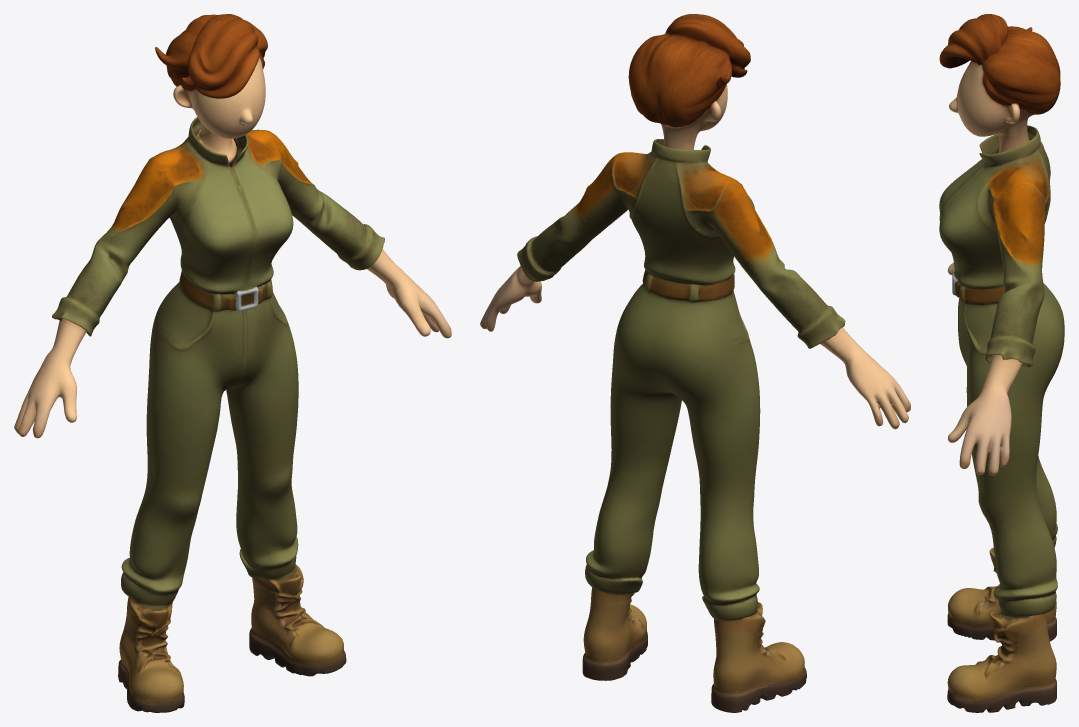
The model's file is source.glb.
3 views of the same model, side by side, from view 1: azimuth 30°, elevation 25°; view 2: azimuth 150°, elevation 25°; view 3: azimuth 270°, elevation 25° (orthographic). The views are drawn at different scales.
Size of the model in its own units: 0.6773 by 1 by 0.1756.
1 material, 1 textured.
